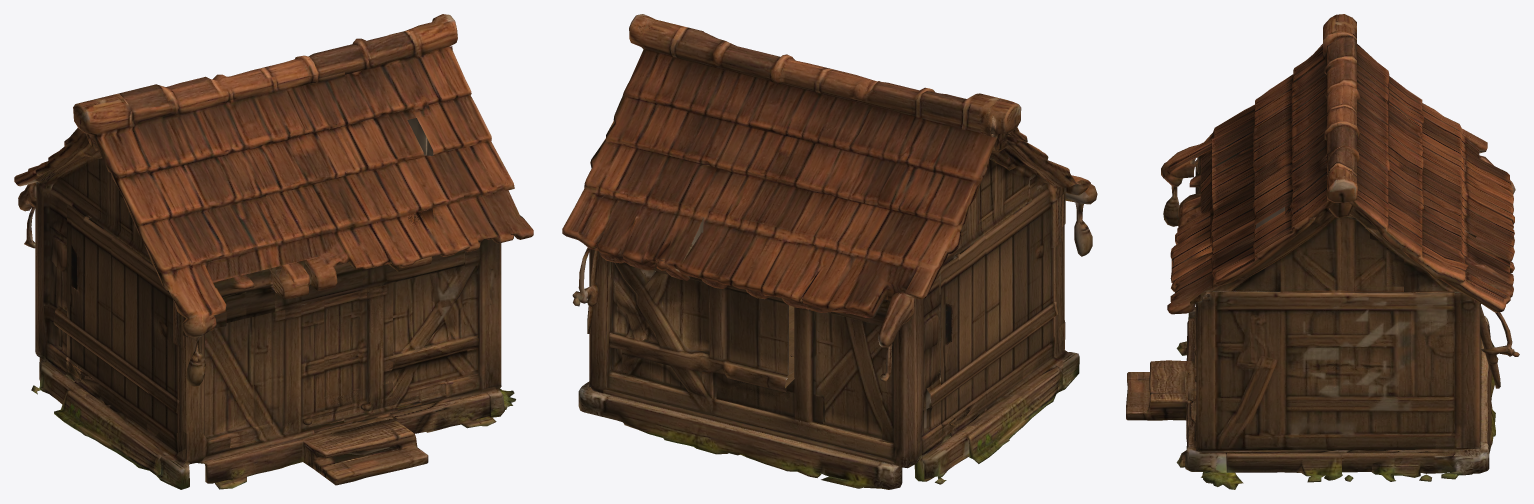
3 views of the same model, side by side, from view 1: azimuth 30°, elevation 25°; view 2: azimuth 150°, elevation 25°; view 3: azimuth 270°, elevation 25° (orthographic). The views are drawn at different scales.
Parts seen in each view (by area): view 1: obj1; view 2: obj1; view 3: obj1.
Boxes of the visible parts, box(x1,y1,x2,y2) form: obj1: box(14, 14, 533, 489); obj1: box(562, 14, 1097, 489); obj1: box(1126, 14, 1519, 489).
Bounding box in the file's own units: 189 × 162 × 186.
1 material, 1 textured.
